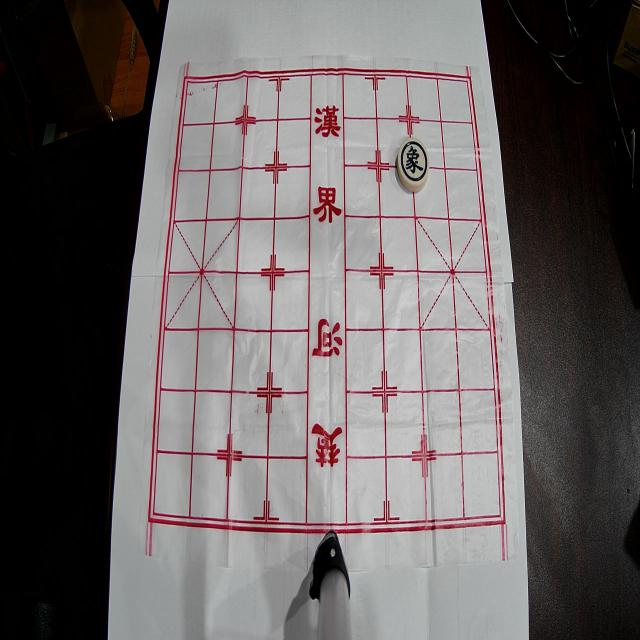black-elephant: (398, 137, 430, 192)
